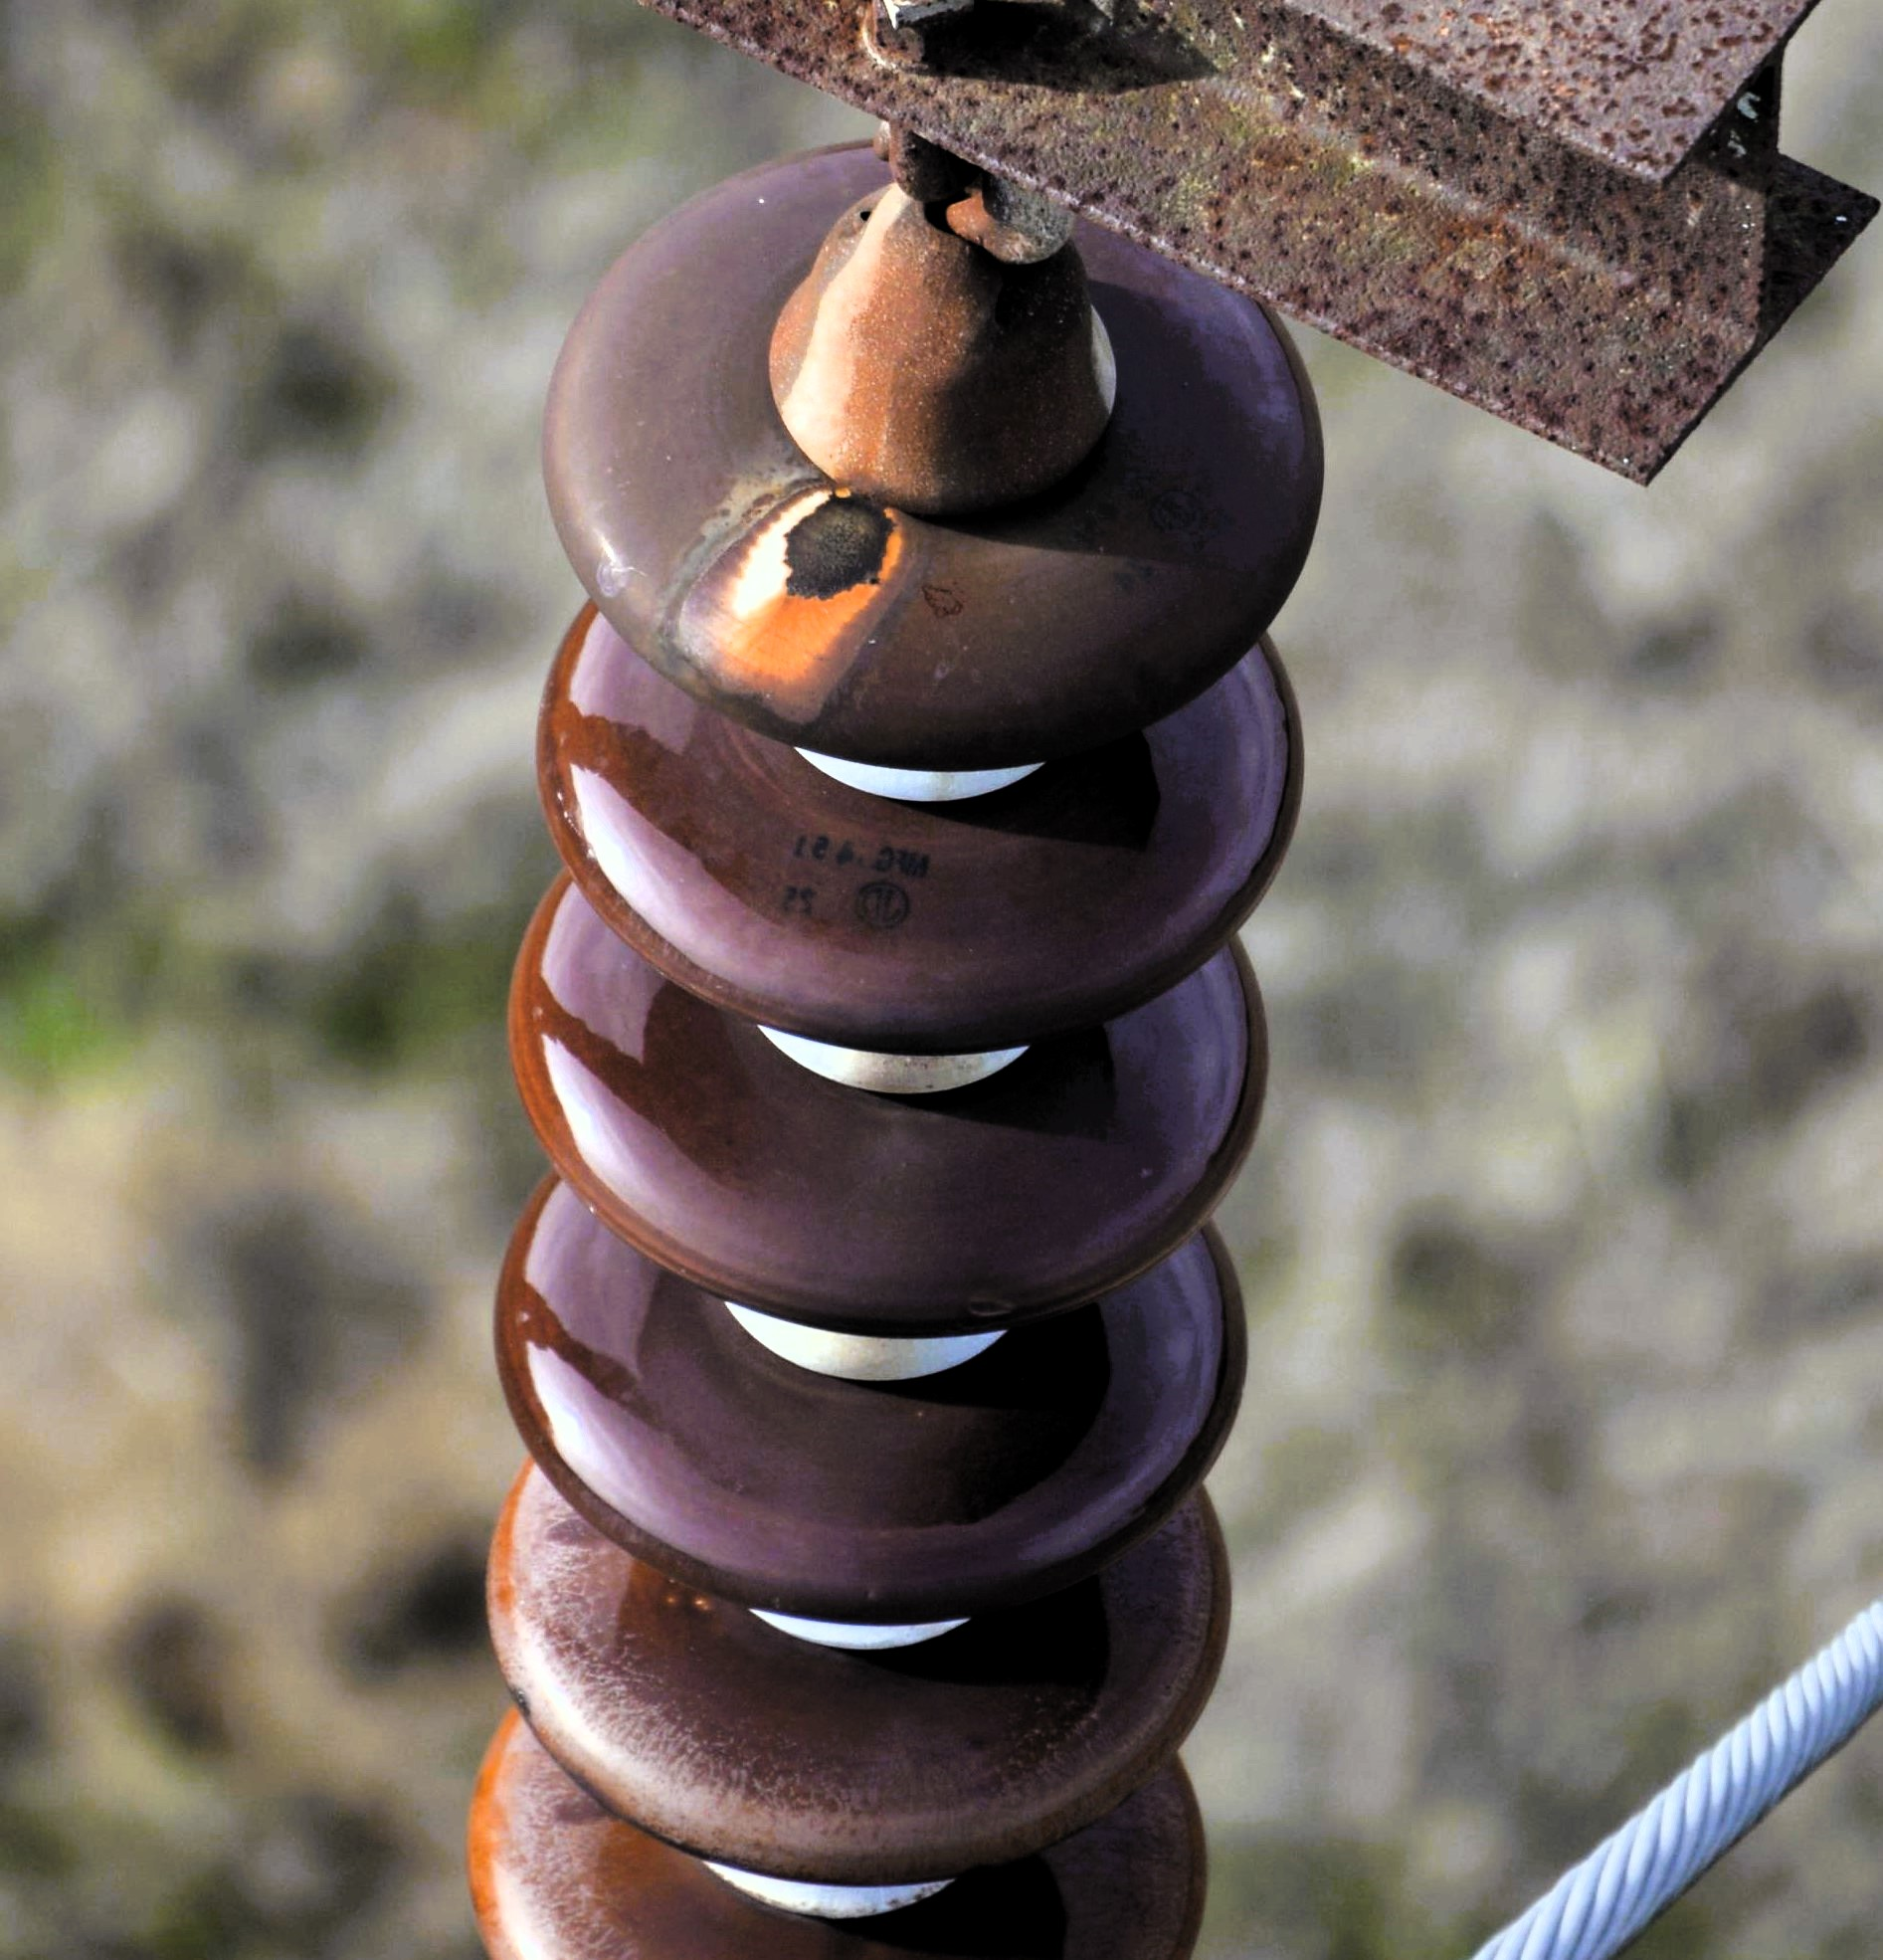Insulator flashover: (521, 140, 1344, 782)
